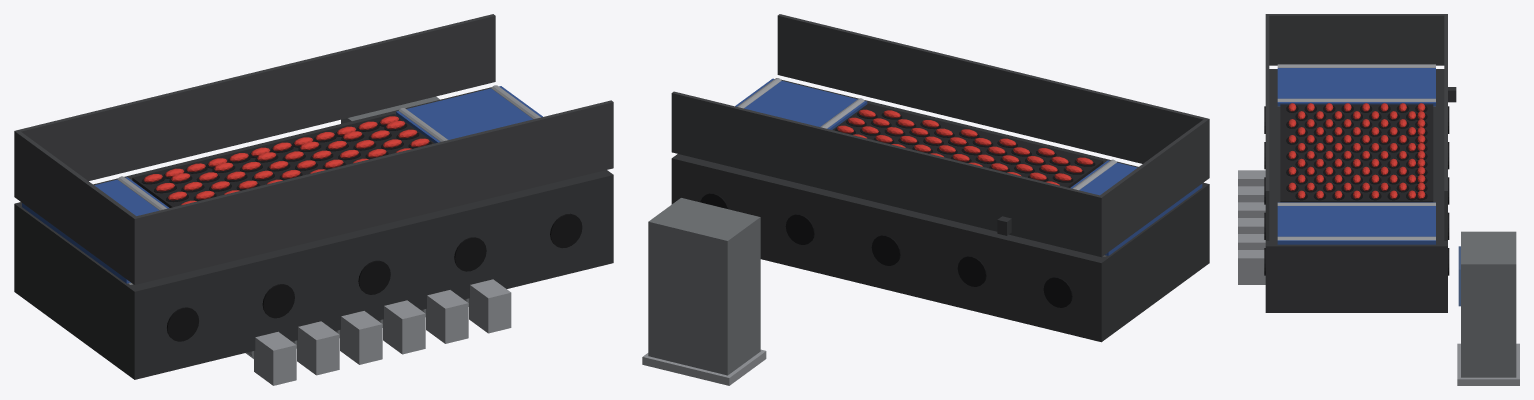
File: varioroute_vr800.glb
The picture shows the model from 3 angles, left to right: view 1: azimuth 30°, elevation 25°; view 2: azimuth 150°, elevation 25°; view 3: azimuth 270°, elevation 25°; orthographic projection. The views are drawn at different scales.
Visible parts, largest first — view 1: VR800_Body, VR800_Guard_Right, VR800_Guard_Left, VR800_Guard_Infeed, VR800_Deck, VR800_BeltRear, VR800_Motor, VR800_Motor.001, VR800_Motor.002, VR800_Motor.003, VR800_Motor.004, VR800_Motor.005 (+6 smaller); view 2: VR800_Body, VR800_Guard_Left, VR800_Guard_Right, VR800_Cabinet_Body, VR800_Guard_Infeed, VR800_Deck, VR800_BeltRear, VR800_Cabinet_Base, VR800_BeltFront, VR800_Vent_+0, VR800_Vent_+1, VR800_Vent_+3 (+1 smaller); view 3: VR800_Body, VR800_Guard_Infeed, VR800_Cabinet_Body, VR800_Deck, VR800_BeltRear, VR800_BeltFront, VR800_Guard_Right, VR800_Motor.005, VR800_Guard_Left, VR800_Cabinet_Base, VR800_BeltRear_Roller.001, VR800_BeltFront_Roller.001 (+7 smaller).
Boxes of the visible parts, x1=… form: VR800_Body: x1=14, y1=87, x2=613, y2=379; VR800_Guard_Right: x1=132, y1=100, x2=613, y2=284; VR800_Guard_Left: x1=19, y1=14, x2=495, y2=180; VR800_Guard_Infeed: x1=14, y1=130, x2=138, y2=284; VR800_Deck: x1=132, y1=114, x2=434, y2=207; VR800_BeltRear: x1=396, y1=86, x2=542, y2=143; VR800_Motor: x1=254, y1=331, x2=296, y2=385; VR800_Motor.001: x1=297, y1=321, x2=339, y2=375; VR800_Motor.002: x1=340, y1=311, x2=382, y2=364; VR800_Motor.003: x1=383, y1=300, x2=425, y2=354; VR800_Motor.004: x1=426, y1=290, x2=468, y2=343; VR800_Motor.005: x1=469, y1=279, x2=511, y2=333; VR800_Body: x1=671, y1=79, x2=1209, y2=342; VR800_Guard_Left: x1=671, y1=91, x2=1103, y2=256; VR800_Guard_Right: x1=777, y1=14, x2=1204, y2=163; VR800_Cabinet_Body: x1=648, y1=198, x2=760, y2=375; VR800_Guard_Infeed: x1=1097, y1=118, x2=1209, y2=257; VR800_Deck: x1=832, y1=103, x2=1103, y2=187; VR800_BeltRear: x1=735, y1=78, x2=867, y2=129; VR800_Cabinet_Base: x1=642, y1=349, x2=766, y2=385; VR800_BeltFront: x1=1070, y1=160, x2=1202, y2=255; VR800_Vent_+0: x1=1043, y1=277, x2=1072, y2=307; VR800_Vent_+1: x1=957, y1=256, x2=986, y2=286; VR800_Vent_+3: x1=785, y1=214, x2=814, y2=244; VR800_Body: x1=1265, y1=69, x2=1447, y2=312; VR800_Guard_Infeed: x1=1265, y1=14, x2=1447, y2=65; VR800_Cabinet_Body: x1=1461, y1=231, x2=1516, y2=377; VR800_Deck: x1=1280, y1=104, x2=1433, y2=202; VR800_BeltRear: x1=1277, y1=202, x2=1435, y2=244; VR800_BeltFront: x1=1277, y1=68, x2=1435, y2=106; VR800_Guard_Right: x1=1265, y1=15, x2=1269, y2=240; VR800_Motor.005: x1=1238, y1=250, x2=1265, y2=284; VR800_Guard_Left: x1=1444, y1=14, x2=1447, y2=240; VR800_Cabinet_Base: x1=1457, y1=343, x2=1519, y2=385; VR800_BeltRear_Roller.001: x1=1277, y1=236, x2=1435, y2=240; VR800_BeltFront_Roller.001: x1=1277, y1=98, x2=1435, y2=106.
Bounding box in the file's own units: 2.27 × 1.2 × 1.53.
